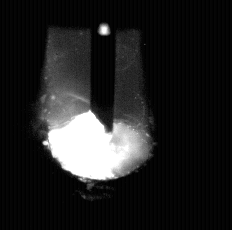arame: (92, 0, 116, 134)
poca: (48, 0, 152, 230)
